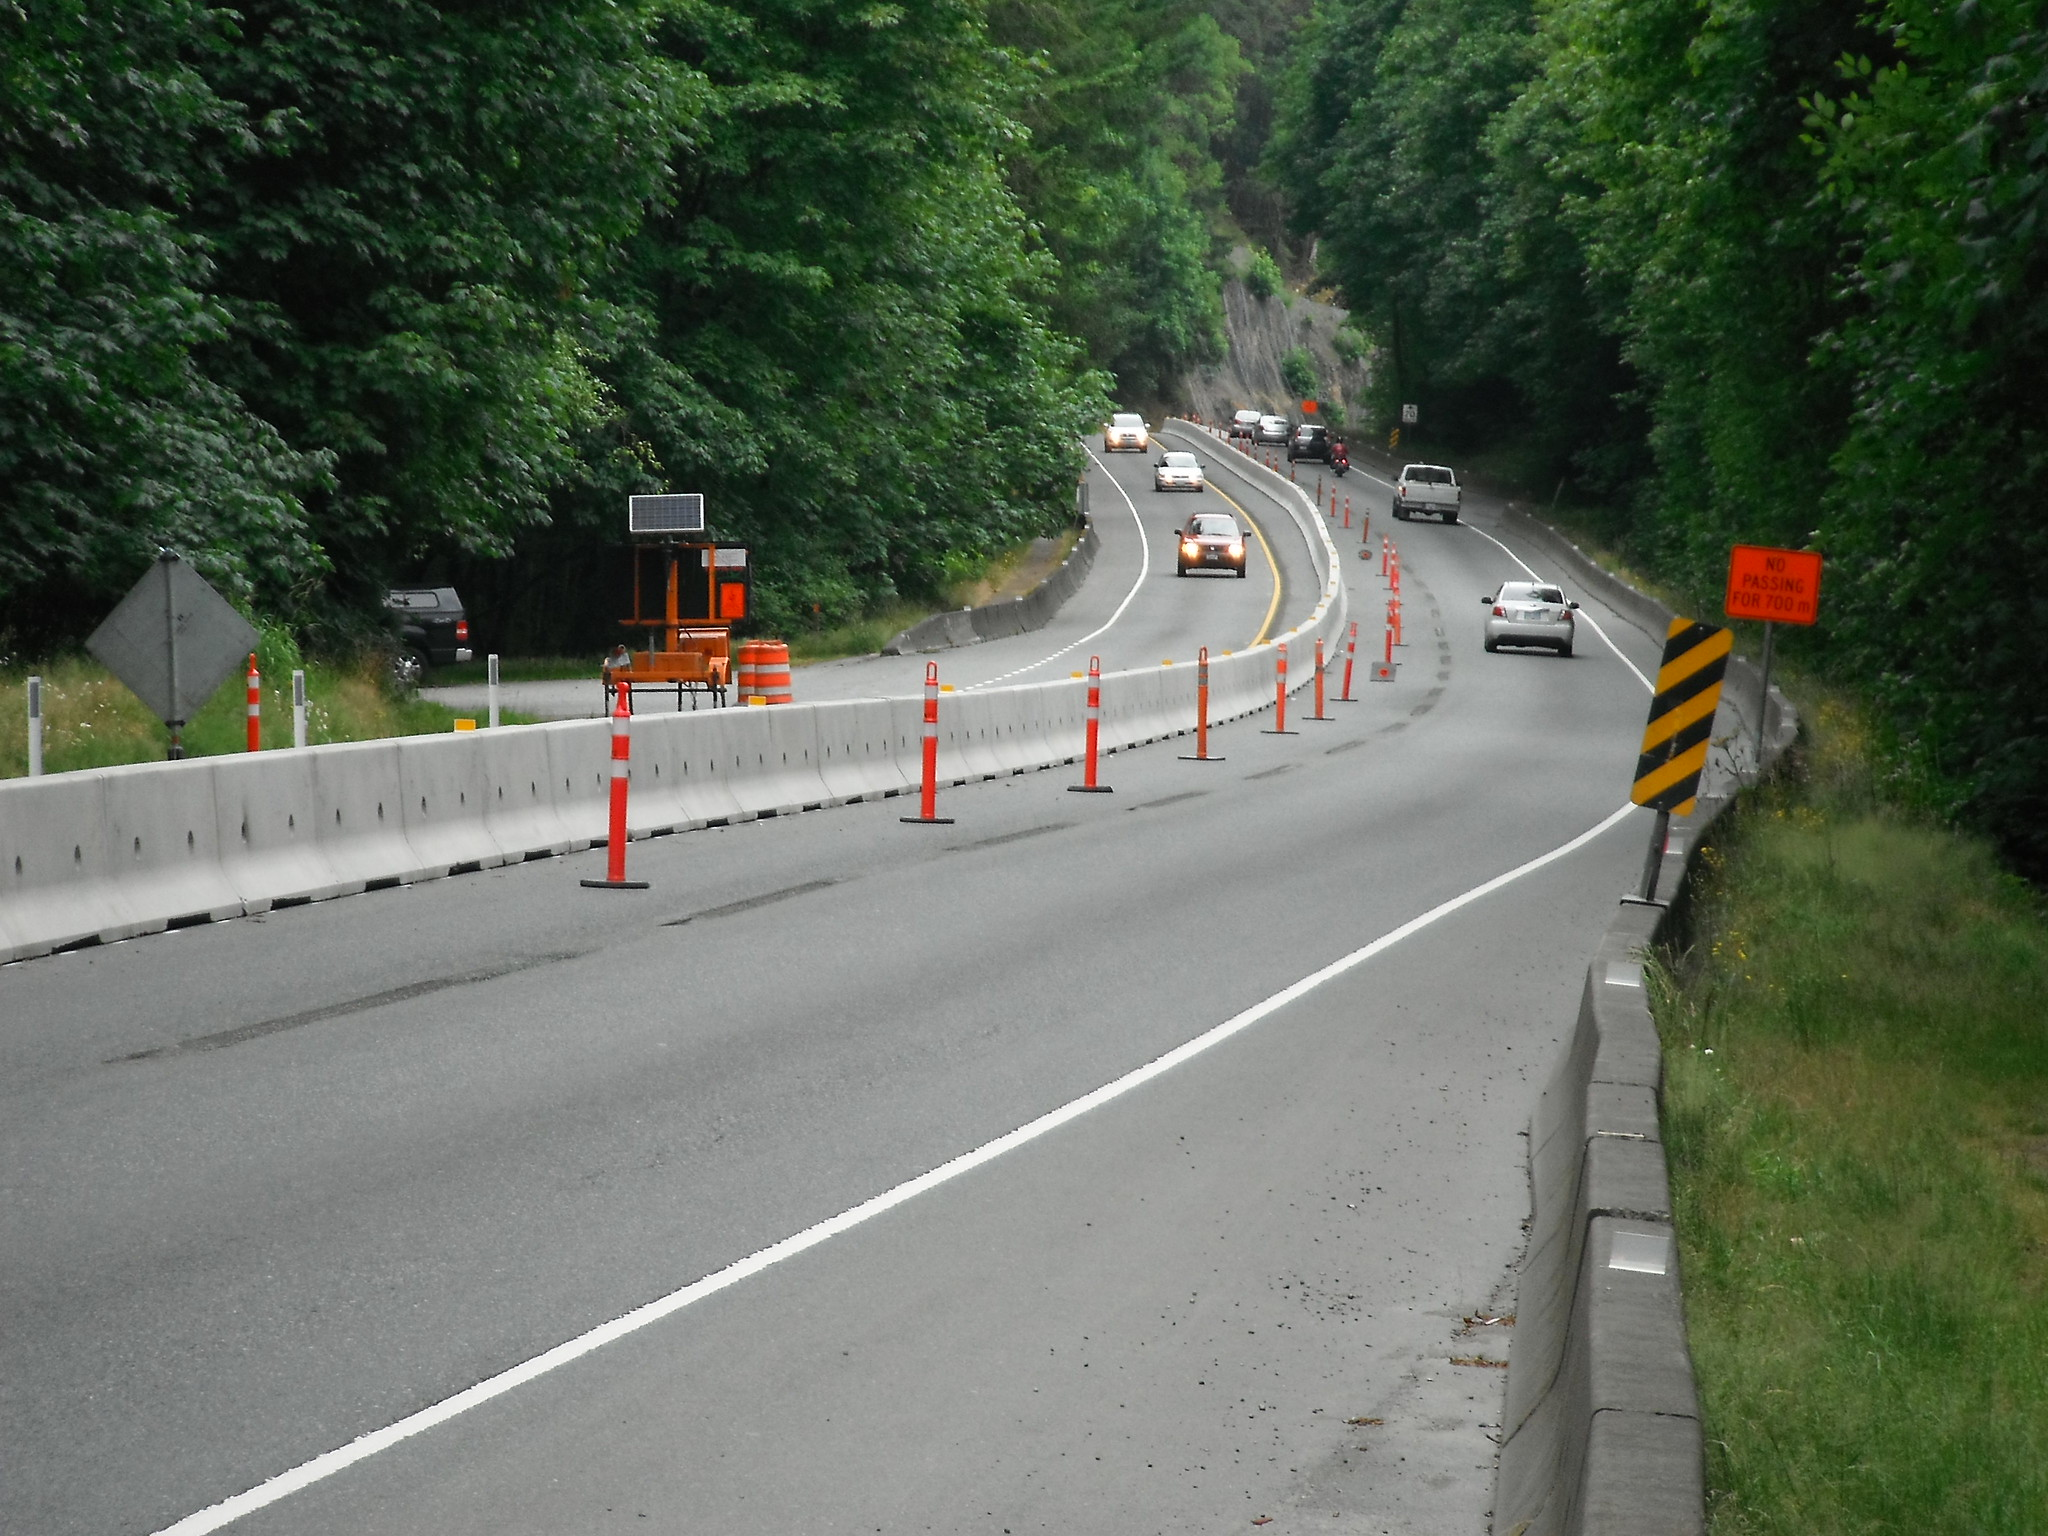not_damaged: (1519, 971, 1775, 1536)
